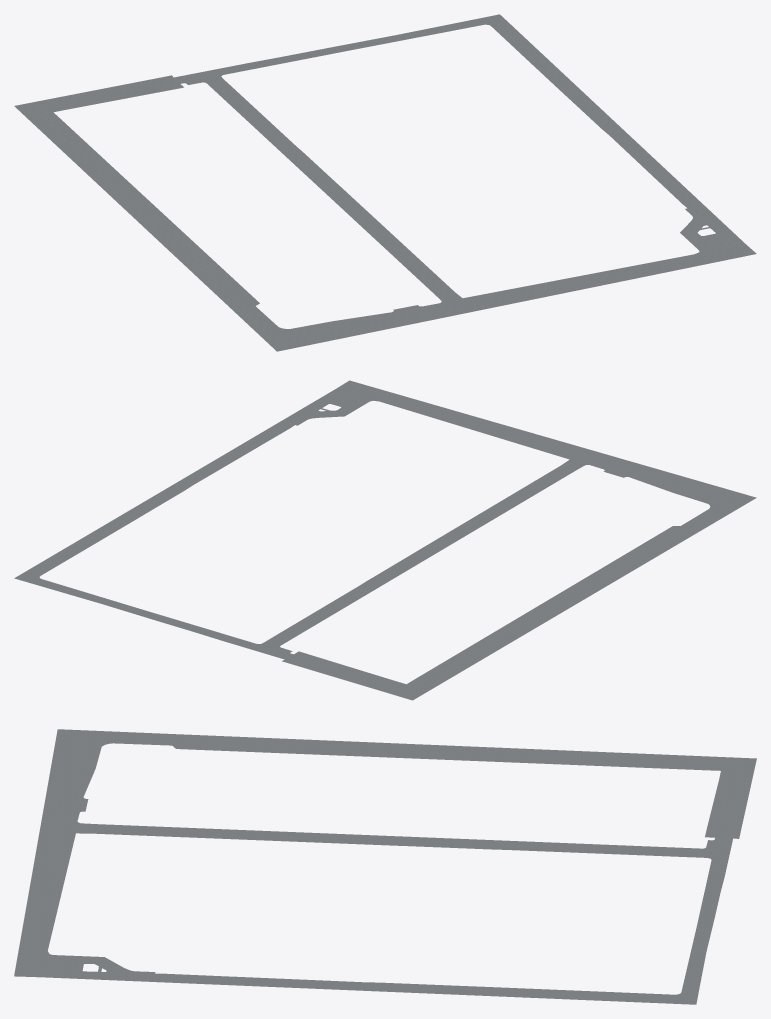
3 views of the same model, one above another, from view 1: azimuth 30°, elevation 25°; view 2: azimuth 150°, elevation 25°; view 3: azimuth 270°, elevation 25° (orthographic). The views are drawn at different scales.
Visible parts, largest first — view 1: Building Footprint (×5); view 2: Building Footprint (×5); view 3: Building Footprint (×5).
Part boxes in pixels (box(x1,y1,x2,y2)): Building Footprint (×5): box(14, 14, 756, 351); Building Footprint (×5): box(14, 380, 756, 700); Building Footprint (×5): box(14, 729, 756, 1004).
Size of the model in its own units: 244 by 1.7e-14 by 278.
Materials: 1 (1 with a texture image).
